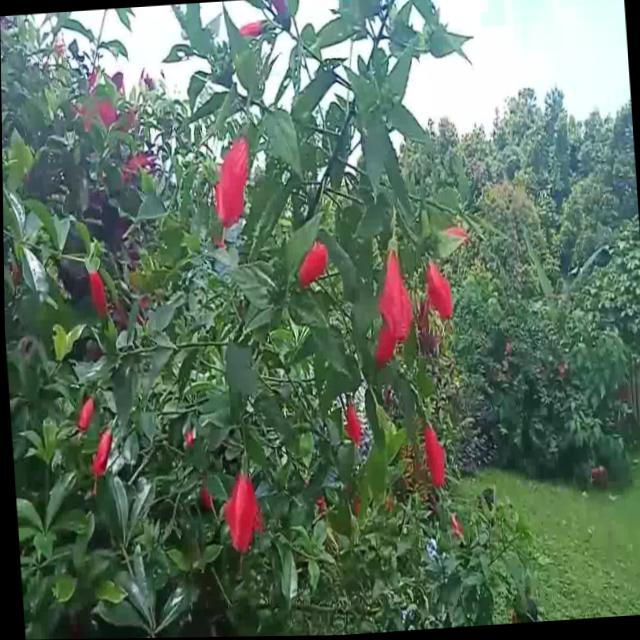Flower: (367, 238, 417, 358), (209, 119, 256, 239), (220, 451, 262, 557), (418, 413, 449, 504), (420, 252, 458, 326), (89, 425, 118, 488), (295, 245, 332, 289), (344, 396, 364, 447), (74, 393, 96, 430)
